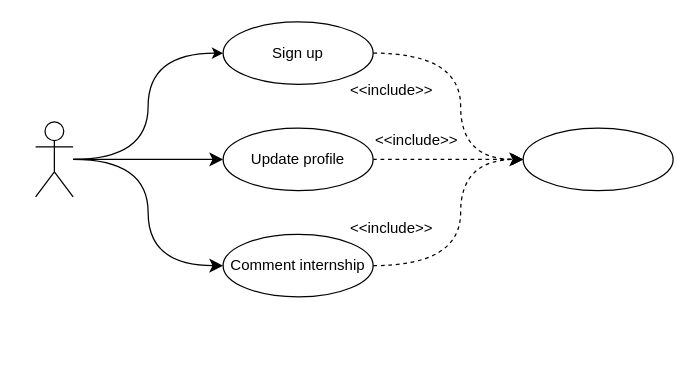
This 695x366 diagram has some shape labels left out. The centre of each missing label's shape, as x and y in pixels:
Log in: the point at 597,159
University: the point at 53,159
